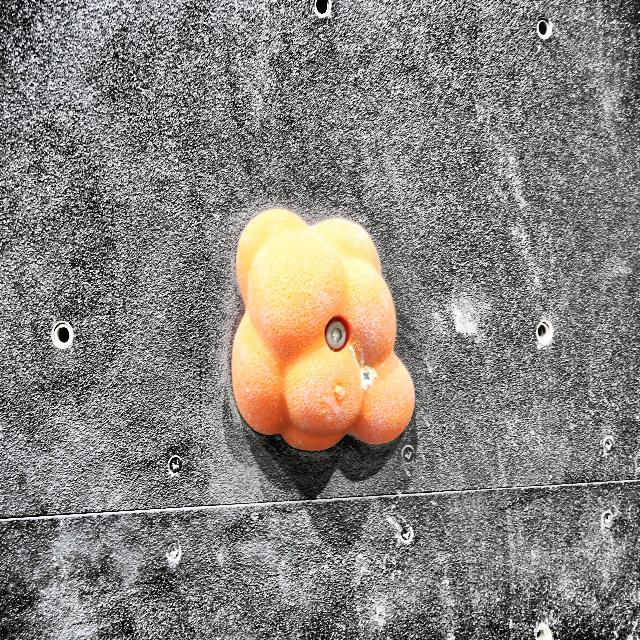Hold: (223, 207, 424, 460)
